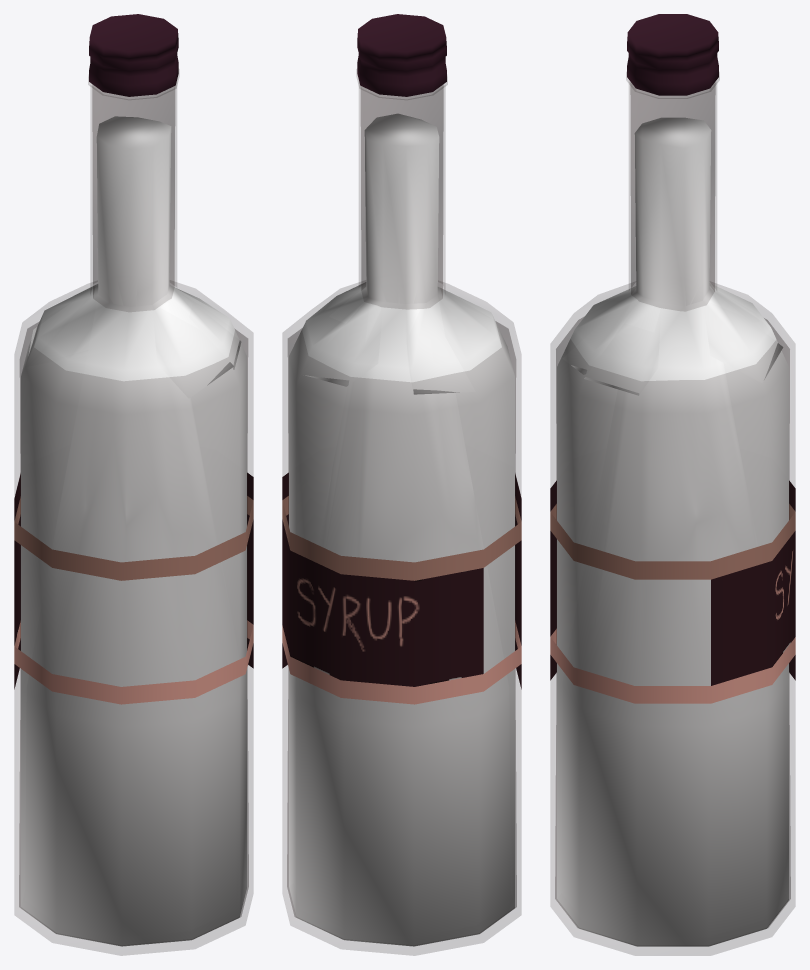
File: sugar_syrup.glb
3 views of the same model, side by side, from view 1: azimuth 30°, elevation 25°; view 2: azimuth 150°, elevation 25°; view 3: azimuth 270°, elevation 25° (orthographic).
Visible parts, largest first — view 1: jar, jar top; view 2: jar, jar top; view 3: jar, jar top.
Part boxes in pixels (left/top/right/bottom): jar: left=14, top=75, right=253, bottom=955; jar top: left=89, top=14, right=178, bottom=96; jar: left=282, top=75, right=521, bottom=955; jar top: left=357, top=14, right=446, bottom=96; jar: left=550, top=72, right=795, bottom=955; jar top: left=627, top=14, right=718, bottom=95.
Bounding box in the file's own units: 1.48 × 6.13 × 1.56.
7 materials, 1 textured.
